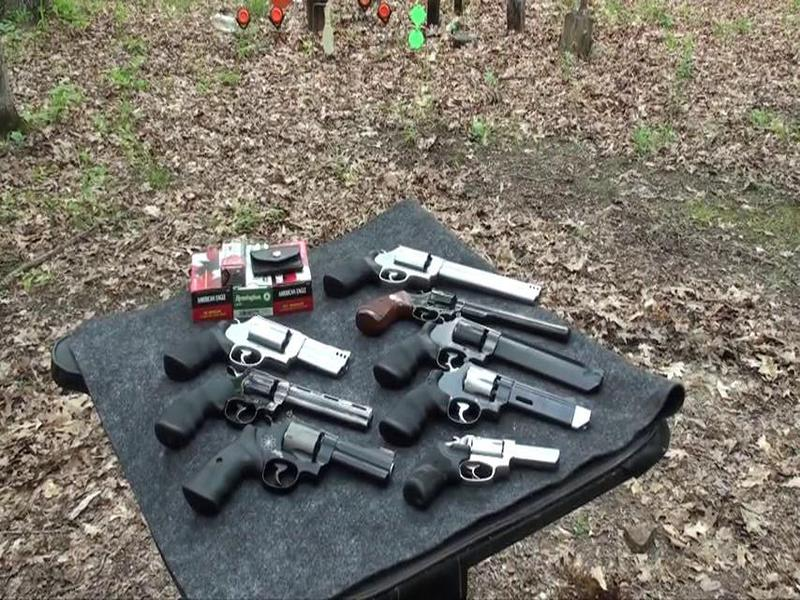Revolver: (175, 418, 406, 537)
